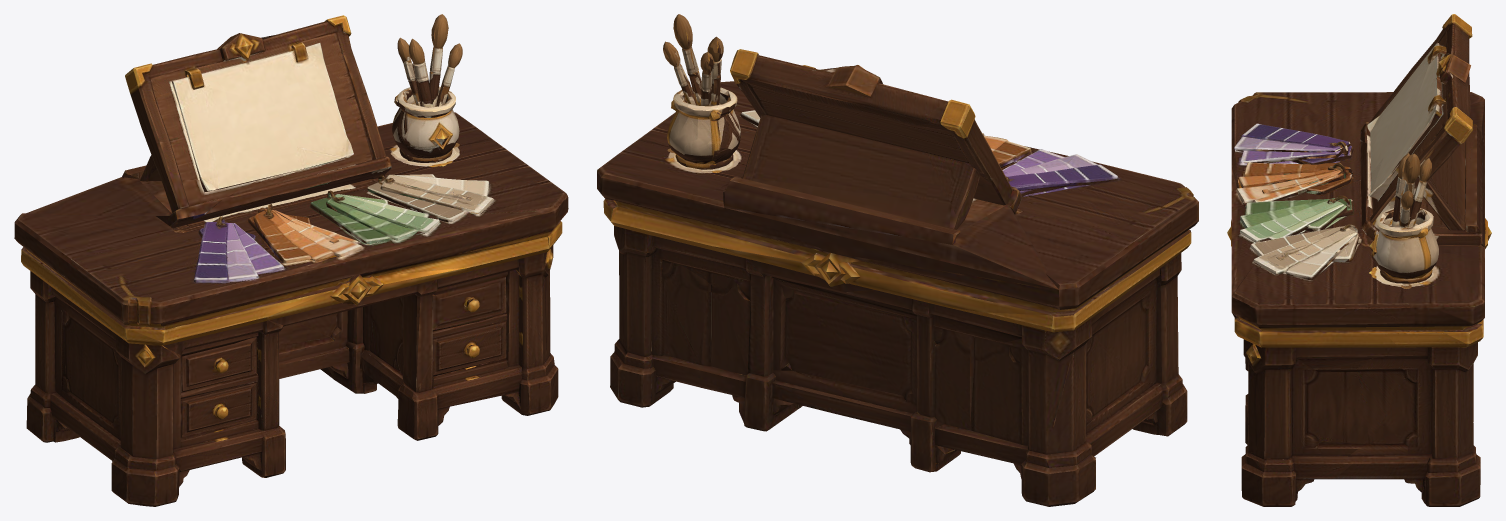
Rendered from workbench-designer.glb.
3 views of the same model, side by side, from view 1: azimuth 30°, elevation 25°; view 2: azimuth 150°, elevation 25°; view 3: azimuth 270°, elevation 25° (orthographic). The views are drawn at different scales.
Visible parts, largest first — view 1: output_unwrapped; view 2: output_unwrapped; view 3: output_unwrapped.
Part boxes in pixels (x1,y1,x2,y2): output_unwrapped: (14,14,568,506); output_unwrapped: (597,14,1198,506); output_unwrapped: (1227,14,1491,506).
Bounding box in the file's own units: 1.9 × 1.43 × 0.9881.
1 material, 1 textured.
